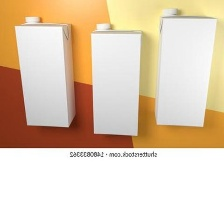carton: (152, 5, 218, 134), (12, 14, 79, 132), (88, 19, 145, 140)
